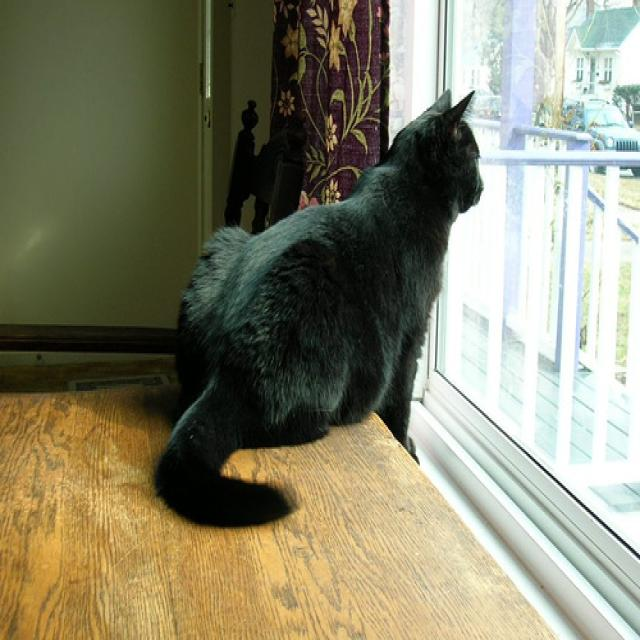Vehicle: (535, 88, 640, 176)
